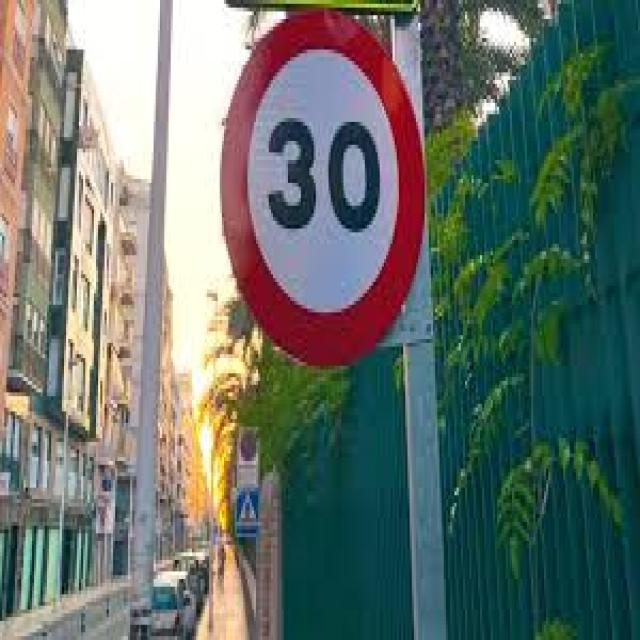Speed limit 30: (219, 9, 430, 371)
